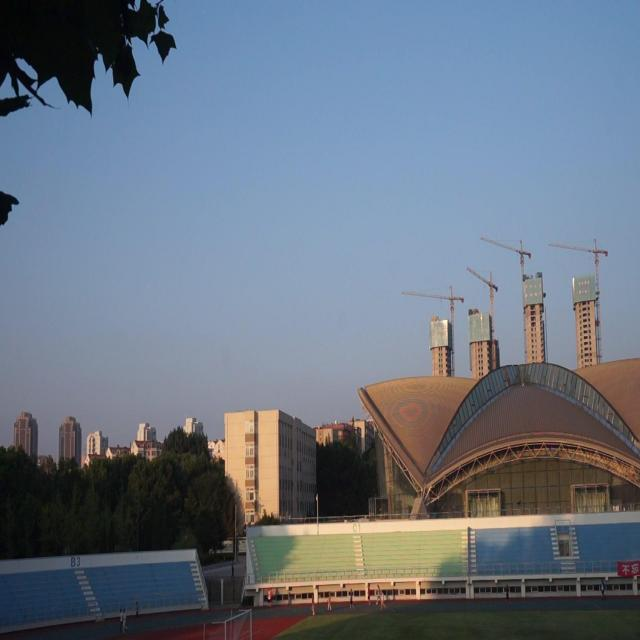UAV: (516, 500, 522, 507)
